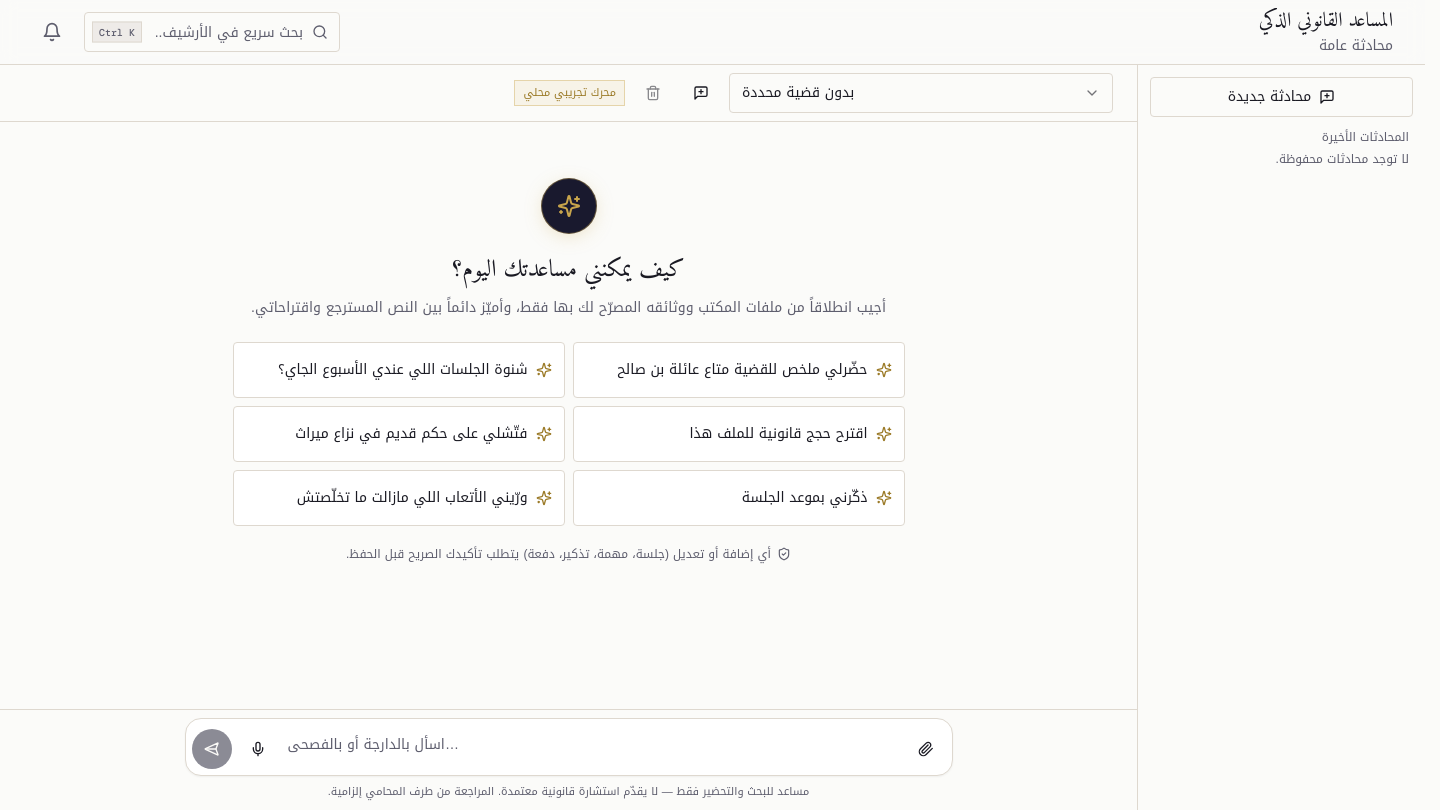
Scenario: assistant conversation › previews a hearing, writes nothing until confirmed, then shows the verified result
Step 1. Type "سجّللي جلسة نهار 11 نوفمبر مع ملف عائلة بن صالح على الساعة 10" into the text box named "اكتب رسالتك للمساعد" → (592, 747), box [284,725,900,769]
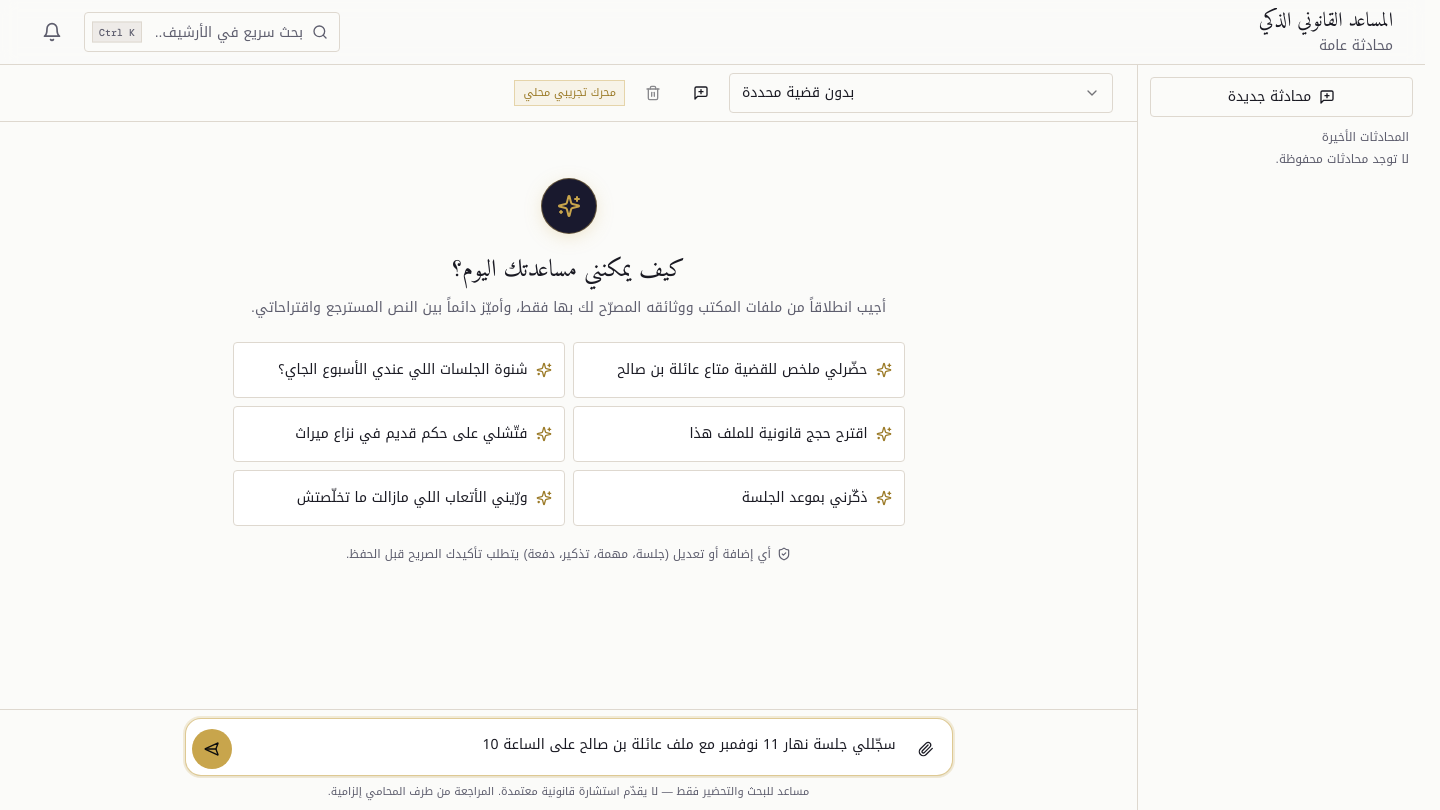
Step 2. Click the button named "إرسال" → (212, 749), box [192,729,232,769]
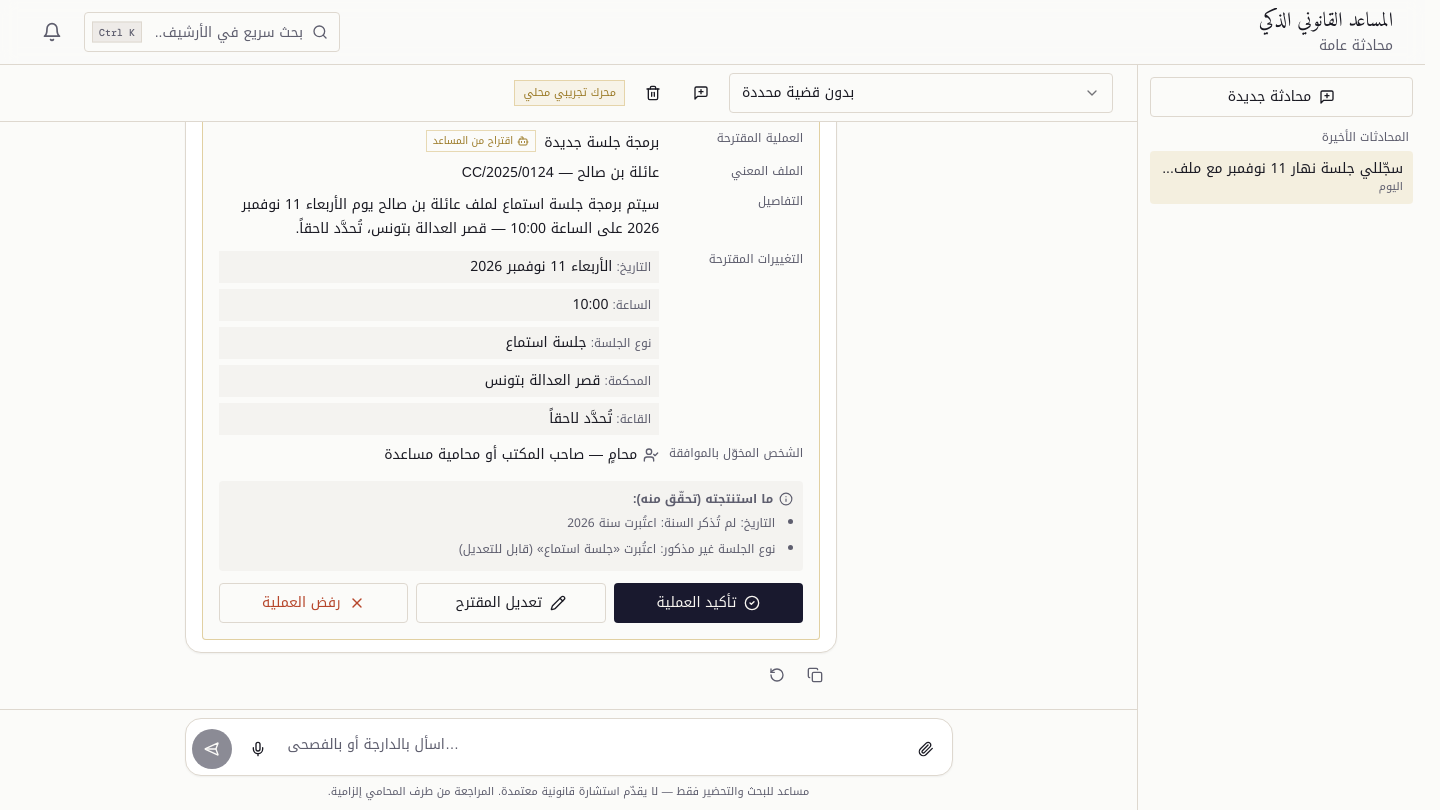
Step 3. Click the button "تأكيد العملية" → (708, 603), box [614,583,803,623]
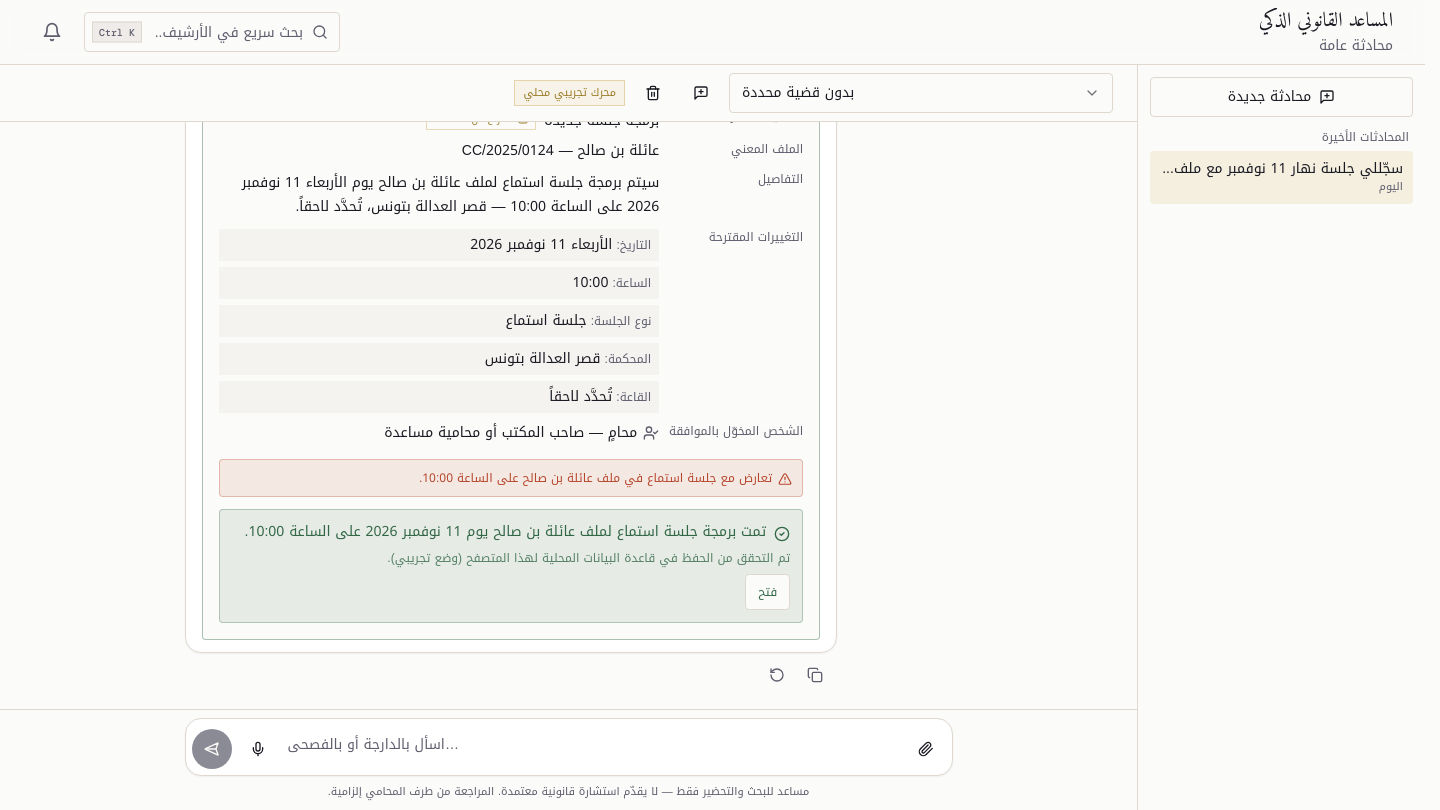
Result: the text "تم التحقق من الحفظ" is shown at [387,547,790,569]
